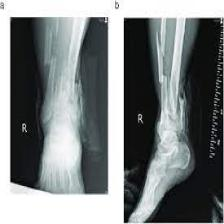comminuted-fracture: (10, 18, 211, 224)
